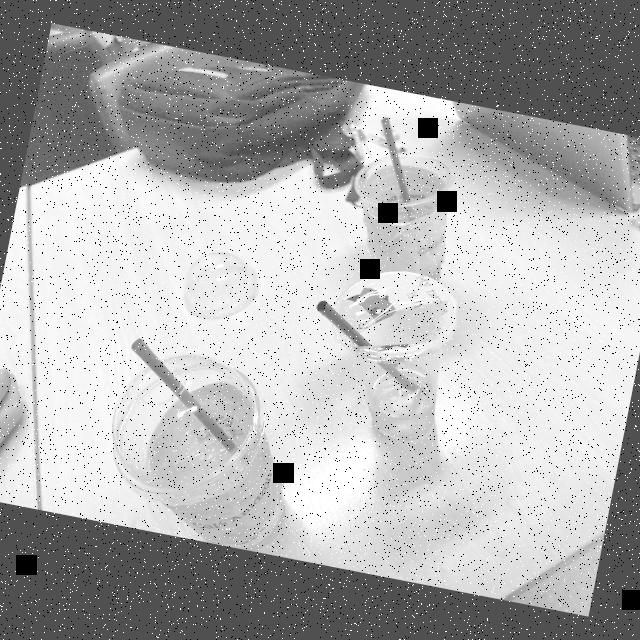plastic_cup: (88, 347, 318, 557), (306, 256, 476, 452), (338, 140, 472, 292)
plastic_cup_lid: (74, 331, 276, 501), (162, 240, 278, 340)
straw: (108, 332, 263, 454), (294, 295, 438, 404), (352, 110, 441, 218)
